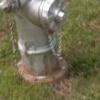Hydrant: (3, 1, 85, 89)
